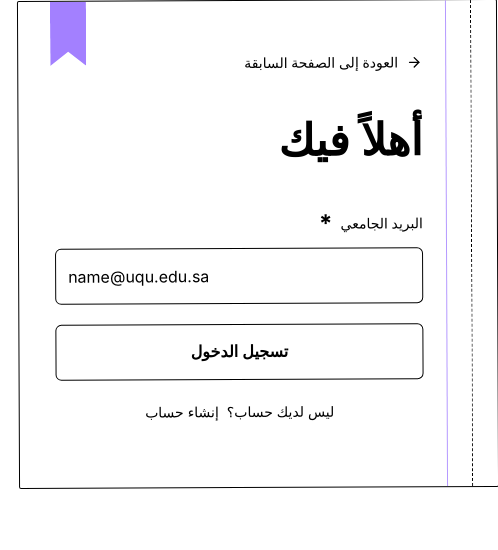
Test: sign-in email step › sends one code request when the button is double-clicked
The image size is (498, 550).
In the field labelled "البريد الجامعي *": (239, 276) 55,247 -> 423,305, type "s000000001@st.uqu.edu.sa"
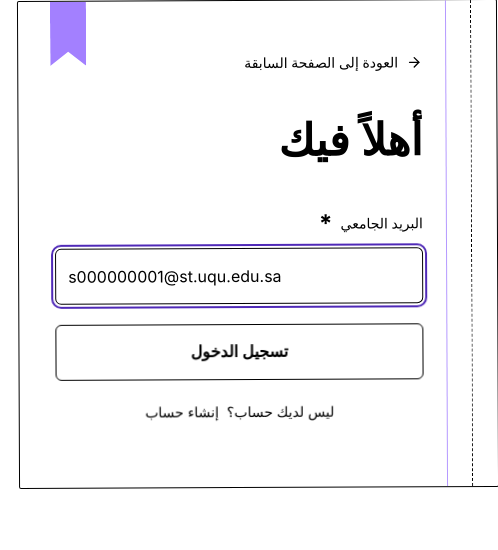
Double-click the button "تسجيل الدخول": (240, 352) 55,323 -> 424,381
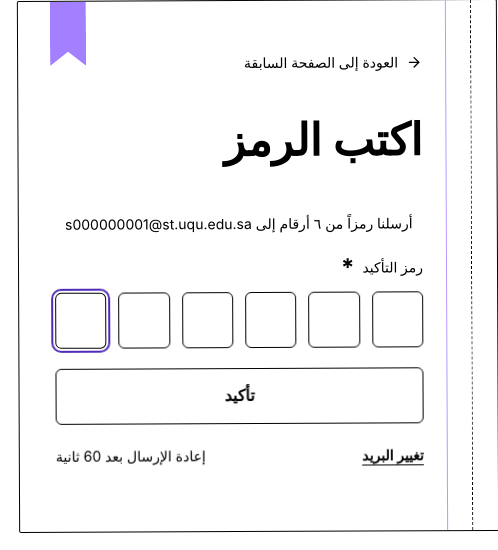
expect the heading "اكتب الرمز" is shown: met, box 224,112 -> 422,167
